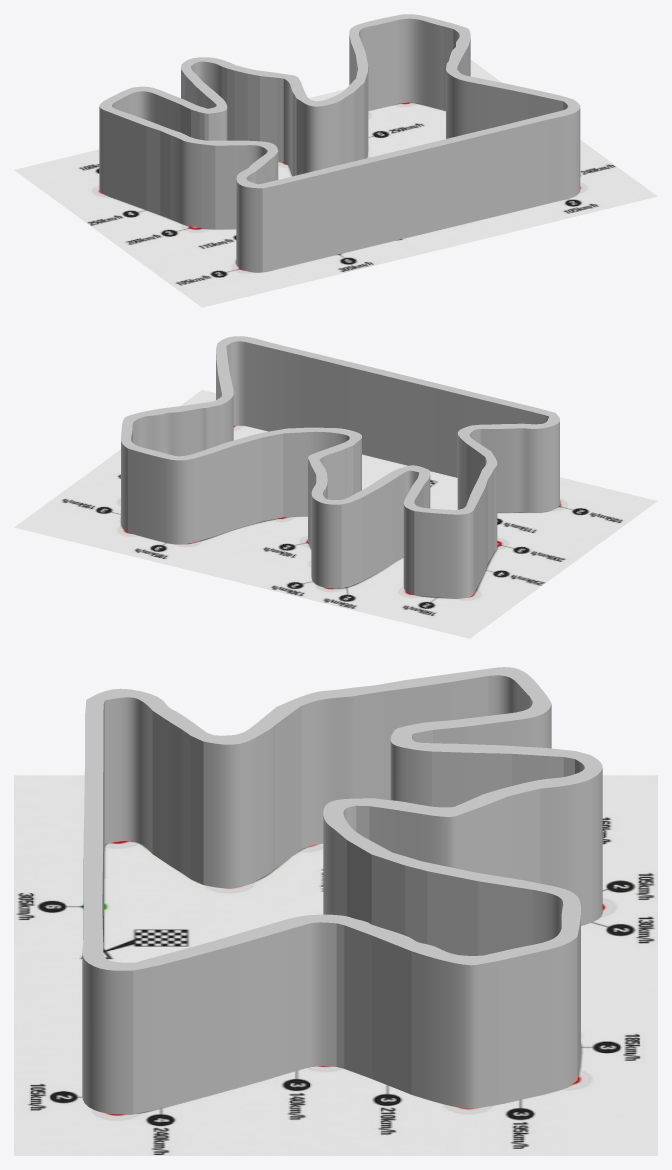
Rendered from Qatar_PianoPista.fbx.
The picture shows the model from 3 angles, top to bottom: view 1: azimuth 30°, elevation 25°; view 2: azimuth 150°, elevation 25°; view 3: azimuth 270°, elevation 25°; orthographic projection. The views are drawn at different scales.
Visible parts, largest first — view 1: qatar, Qatar001; view 2: qatar, Qatar001; view 3: qatar, Qatar001.
Boxes of the visible parts, box(x1,y1,x2,y2) form: qatar: box(99, 14, 580, 272); Qatar001: box(14, 60, 657, 307); qatar: box(121, 336, 559, 598); Qatar001: box(14, 390, 657, 638); qatar: box(82, 667, 602, 1114); Qatar001: box(14, 775, 657, 1155).
Bounding box in the file's own units: 11.37 × 2 × 8.13.
Materials: 1 (1 with a texture image).
